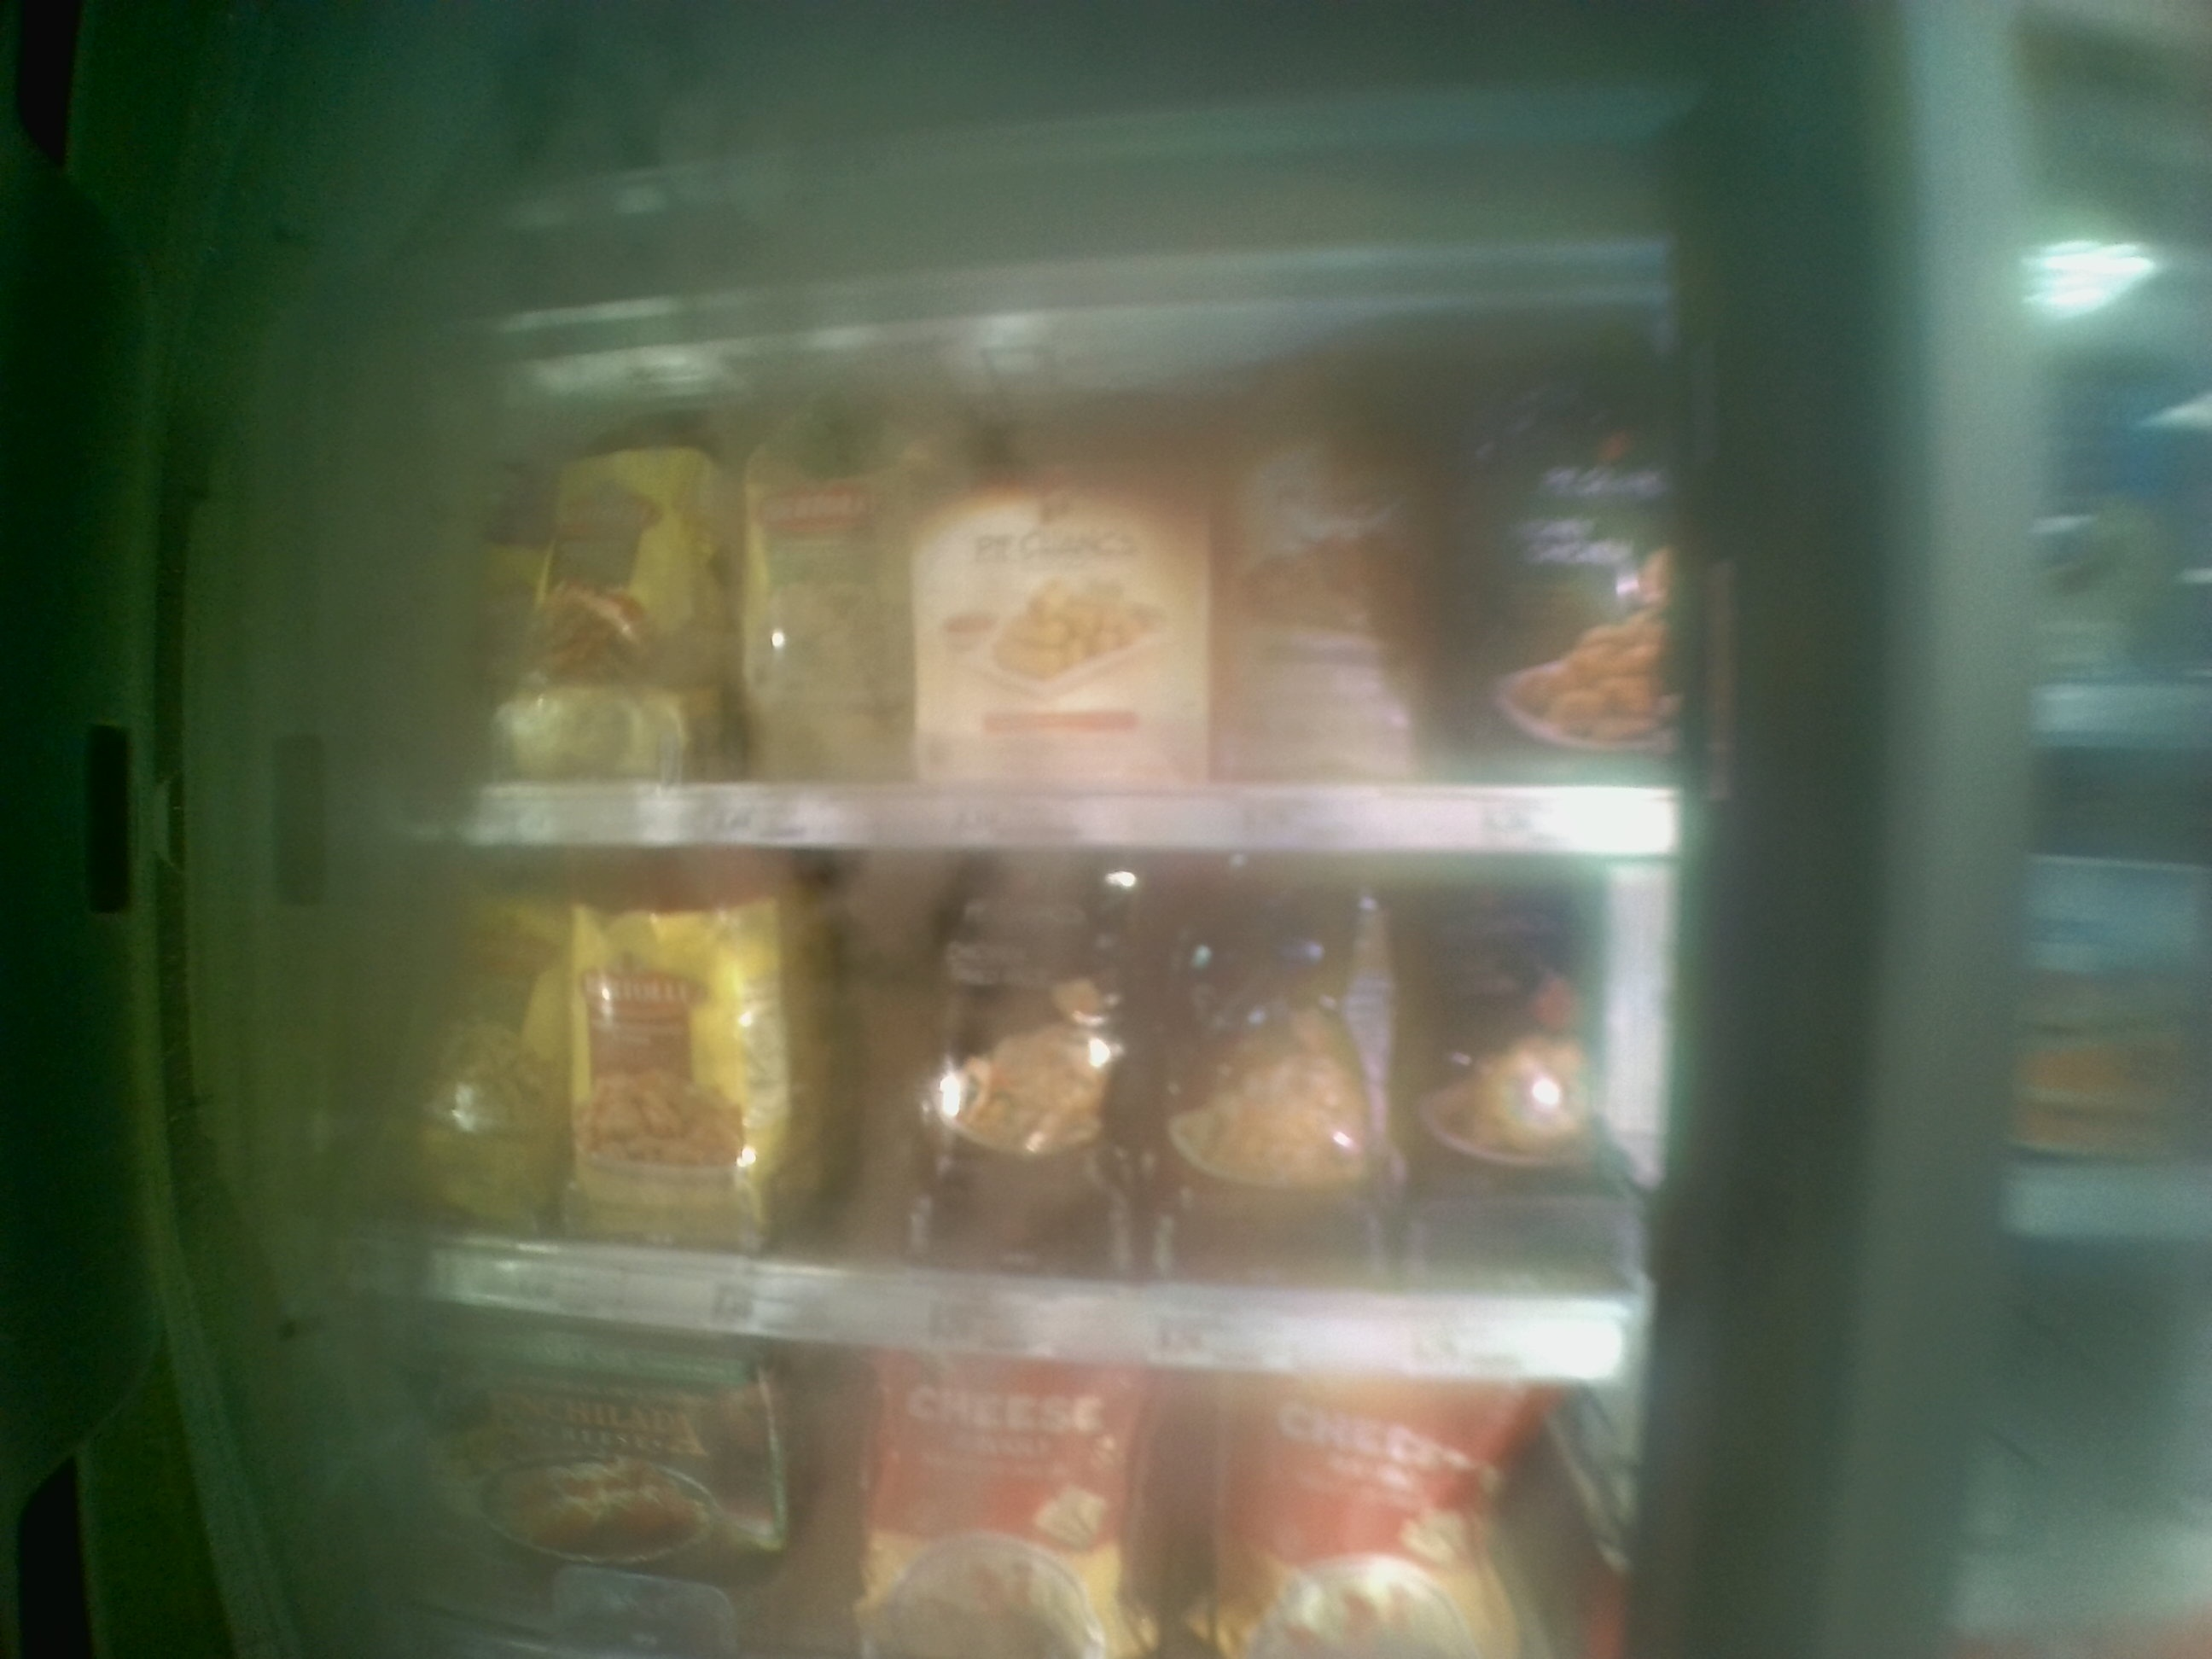shelf: (350, 817, 1644, 1321)
